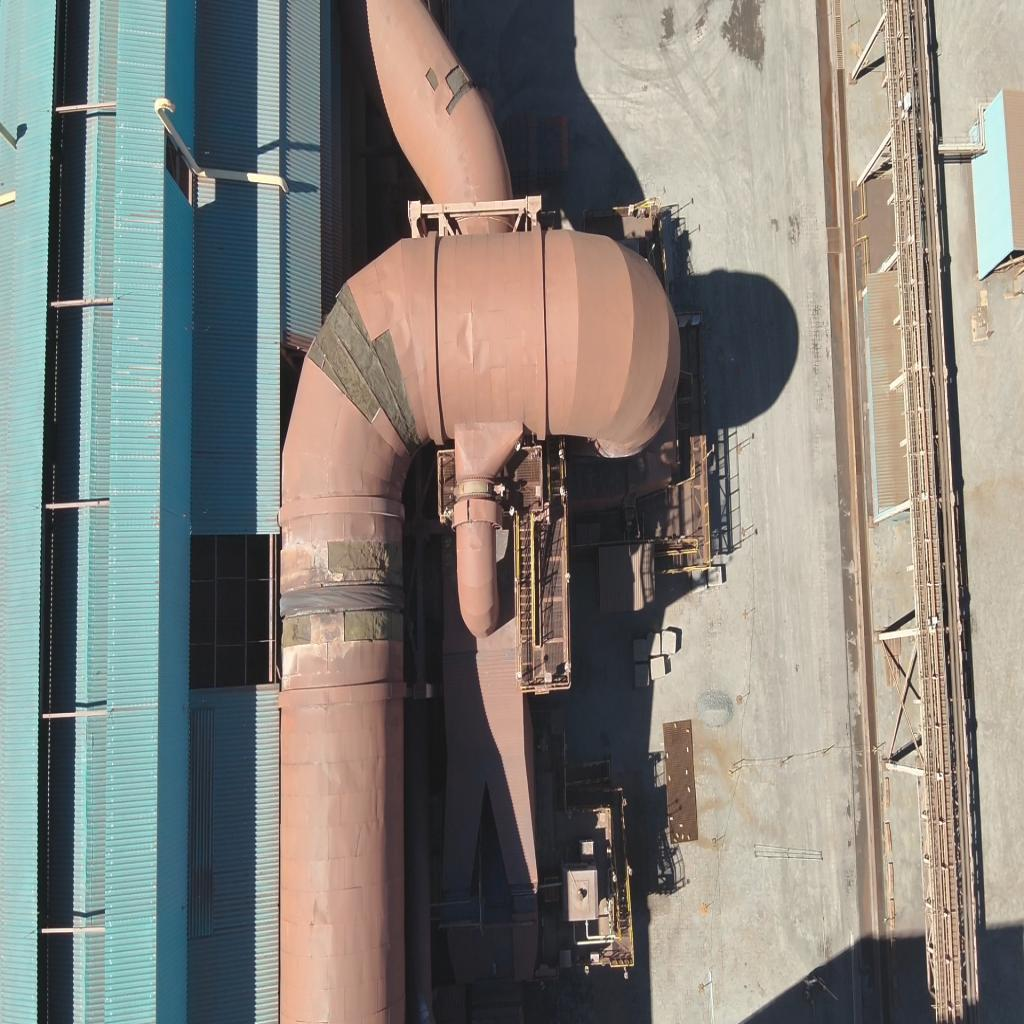Failures: (308, 300, 422, 468), (322, 532, 402, 582), (340, 604, 400, 642), (443, 65, 478, 118), (280, 610, 316, 649), (425, 60, 440, 98)
